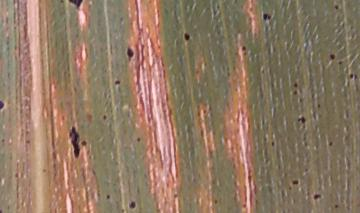tarspot: (67, 125, 81, 159), (124, 45, 135, 62), (66, 1, 84, 10), (181, 31, 192, 43), (296, 114, 307, 125), (347, 71, 359, 81), (261, 12, 273, 21), (311, 192, 323, 201), (128, 199, 137, 210), (171, 191, 180, 200), (328, 52, 337, 61), (1, 98, 6, 113), (291, 178, 300, 186), (332, 202, 340, 210), (290, 89, 299, 96), (297, 96, 304, 105), (114, 78, 121, 86), (292, 81, 300, 88), (327, 140, 335, 147), (81, 140, 88, 147), (101, 114, 108, 121), (333, 4, 340, 11), (315, 102, 322, 109), (213, 198, 219, 206), (270, 141, 276, 148), (25, 139, 31, 145), (105, 194, 111, 200), (136, 137, 142, 143), (241, 45, 247, 51), (338, 59, 343, 66), (1, 209, 4, 213)
